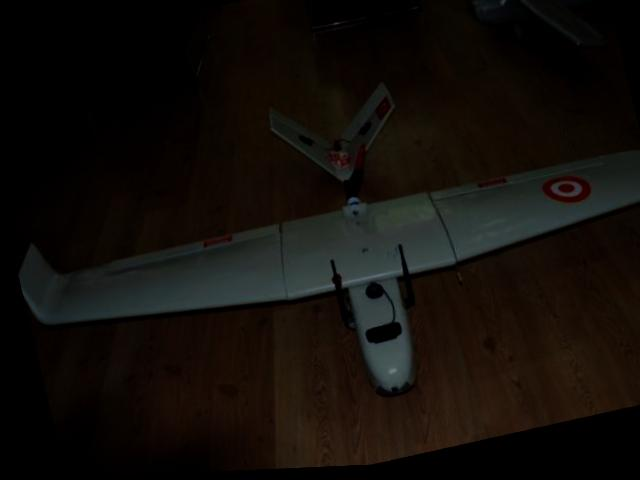iha: (3, 33, 640, 474)
